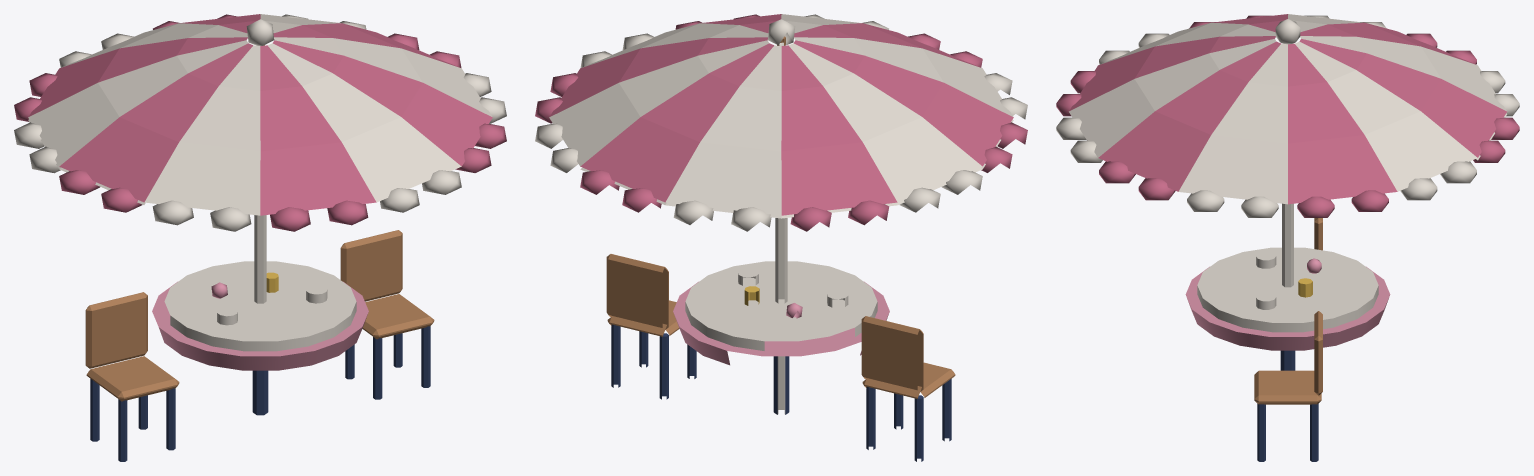
The model's file is ac_parasol.glb.
3 renders of one model, left to right at view 1: azimuth 30°, elevation 25°; view 2: azimuth 150°, elevation 25°; view 3: azimuth 270°, elevation 25°, orthographic. The views are drawn at different scales.
Parts seen in each view (by area): view 1: cyl; view 2: cyl; view 3: cyl.
Boxes of the visible parts, x1=… form: cyl: x1=14, y1=14, x2=506, y2=461; cyl: x1=535, y1=14, x2=1027, y2=461; cyl: x1=1056, y1=14, x2=1519, y2=461.
Size of the model in its own units: 3.18 by 2.81 by 3.17.
